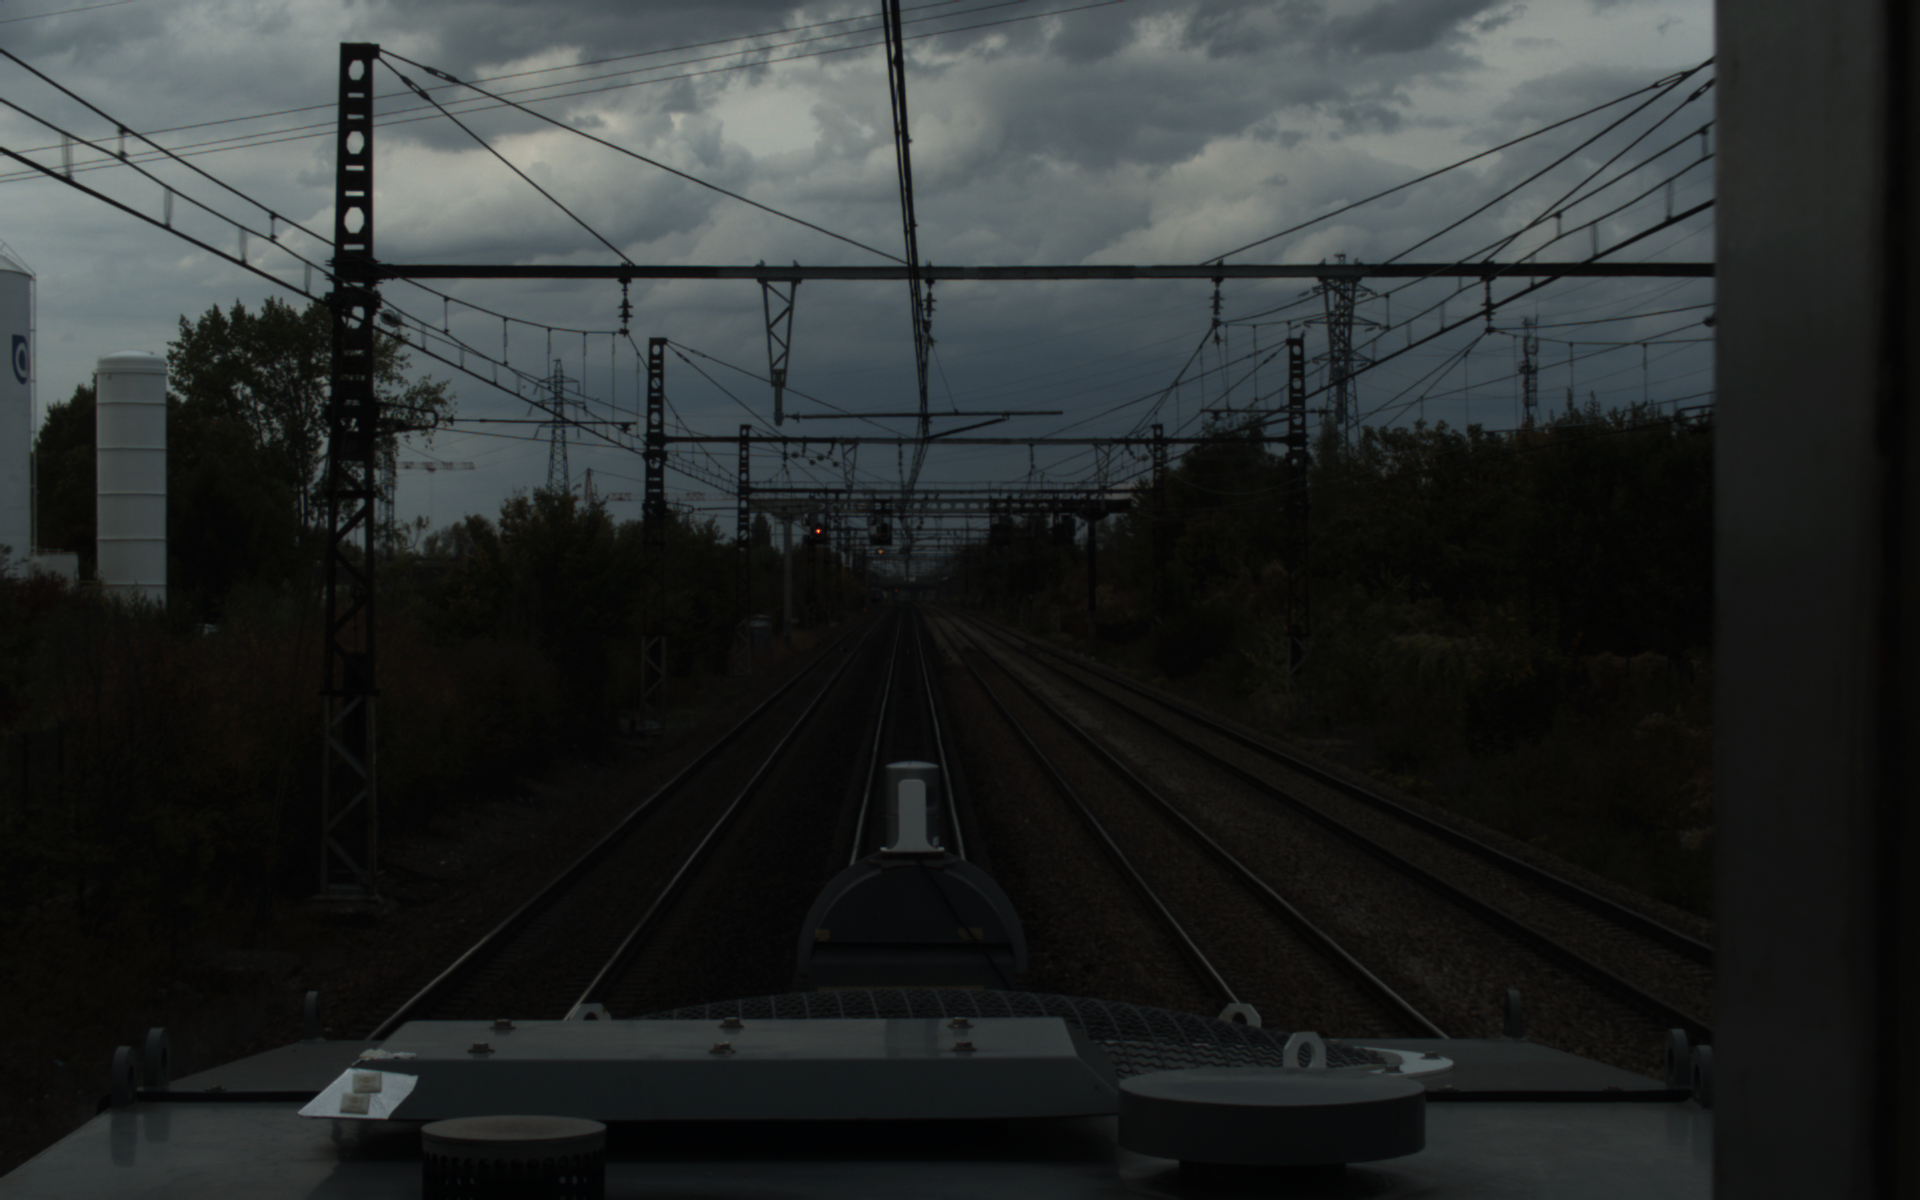Blinking: (875, 520, 890, 541)
Fixed: (810, 520, 825, 541)
